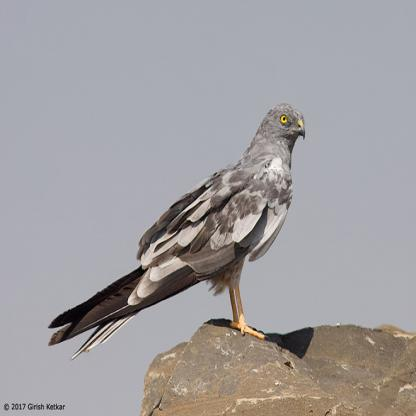Burung: (49, 101, 310, 360)
